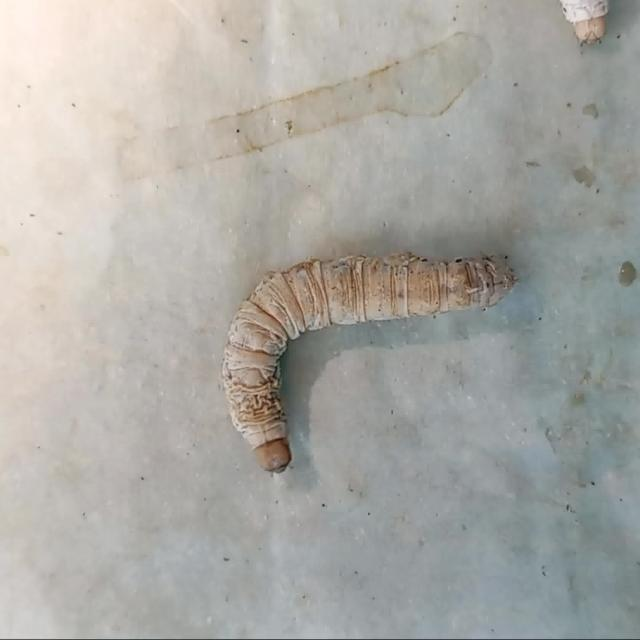Grasserie: (163, 206, 542, 501)
